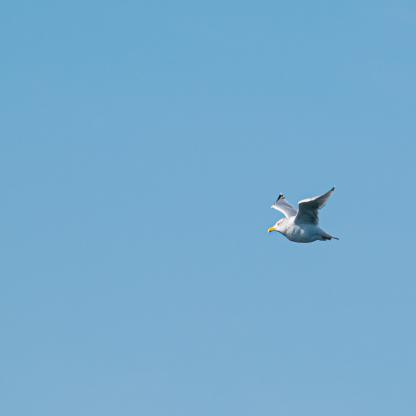bird: (258, 174, 350, 266)
